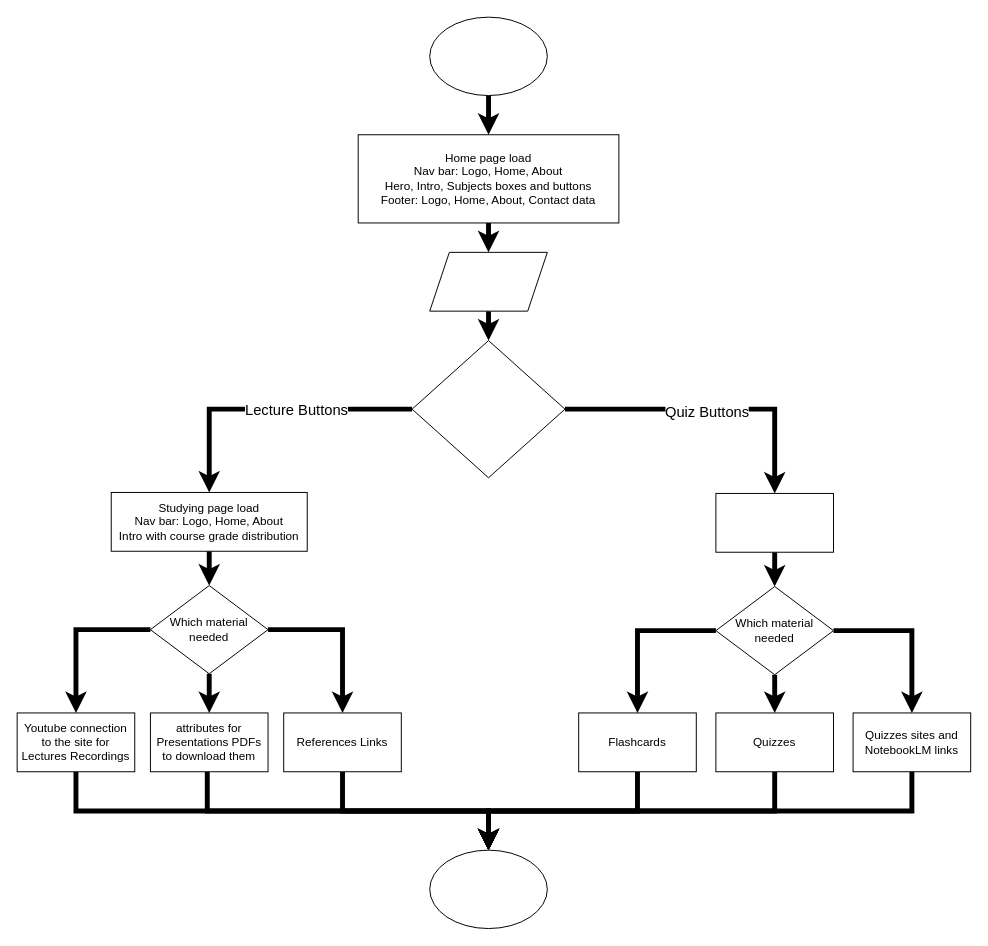
Some shapes in this 988 by 946 pixel diagram are drawn without their labels. The centre of each missing label's shape, as x and y in pixels:
"End" goes at point 488,889.
"Quizzes page load" goes at point 774,522.
"Start User open the website" goes at point 488,56.
"User Select button" goes at point 488,281.
"Which button Clicked and for which subject" goes at point 488,409.
